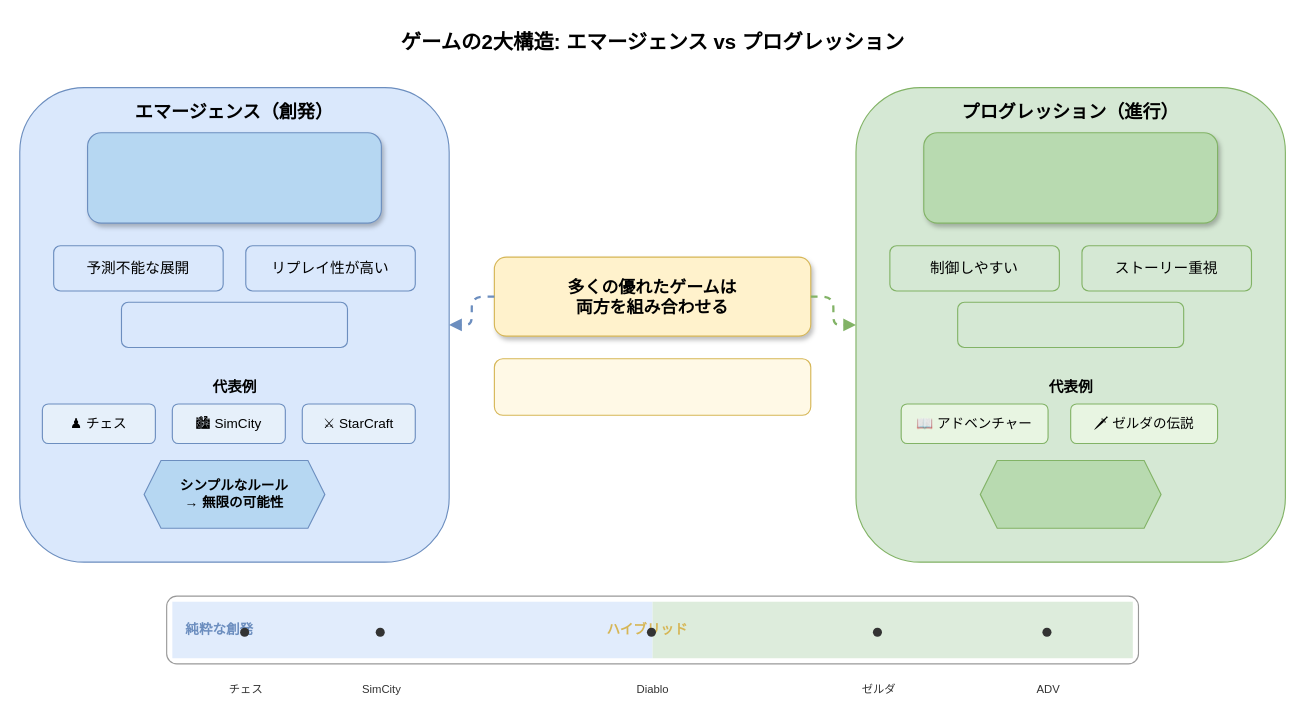
Image size: 1305x716. Some labels were removed from this diagram. The shapes that lost their labels are listed below. From the top down, each one's centre as x and y in pixels, then its label:
At pixel 235 179: "少数のルール ↓ 複雑な振る舞い".
At pixel 1071 179: "デザイナーが設計した 課題の連鎖".
At pixel 233 324: "プレイヤーの戦略が多様".
At pixel 1070 324: "体験の品質を保証".
At pixel 652 386: "例: Diablo（進行型ストーリー + 創発的戦闘） 例: GTA（ミッション進行 + オープンワールド創発）".
At pixel 1070 493: "計画された体験 → 確実な面白さ".
At pixel 892 629: "純粋な進行".
